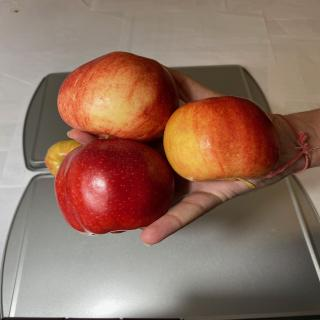Apple: (54, 136, 175, 236), (56, 51, 180, 143), (163, 95, 281, 187), (44, 139, 83, 178)
